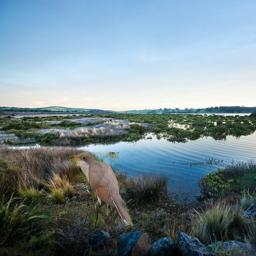Cuckoo: (69, 152, 133, 226)
